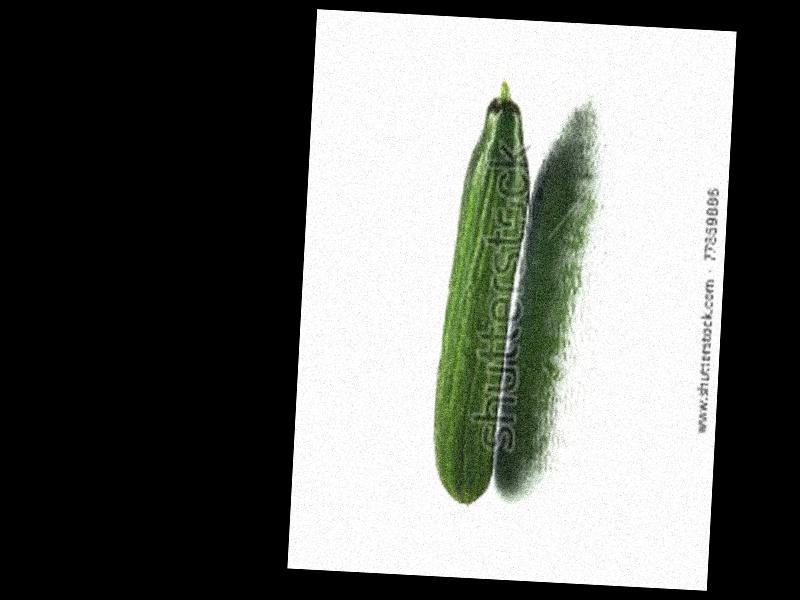Cucumber: (428, 80, 535, 503)
